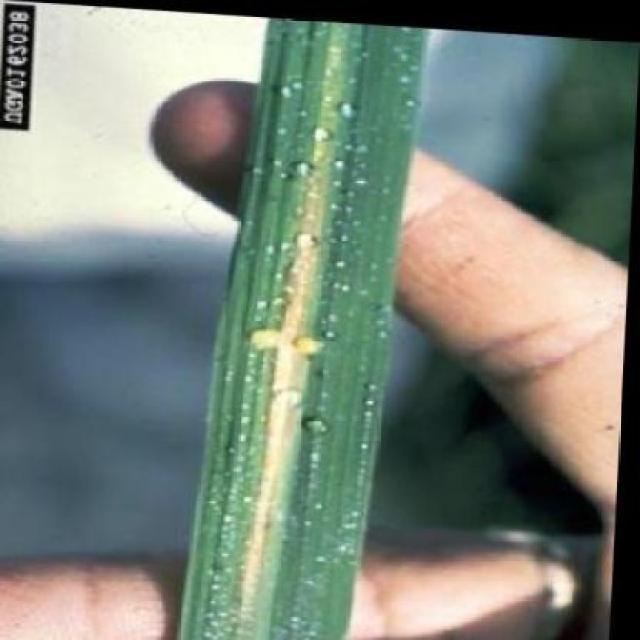Brown_Spot: (216, 54, 356, 640)
